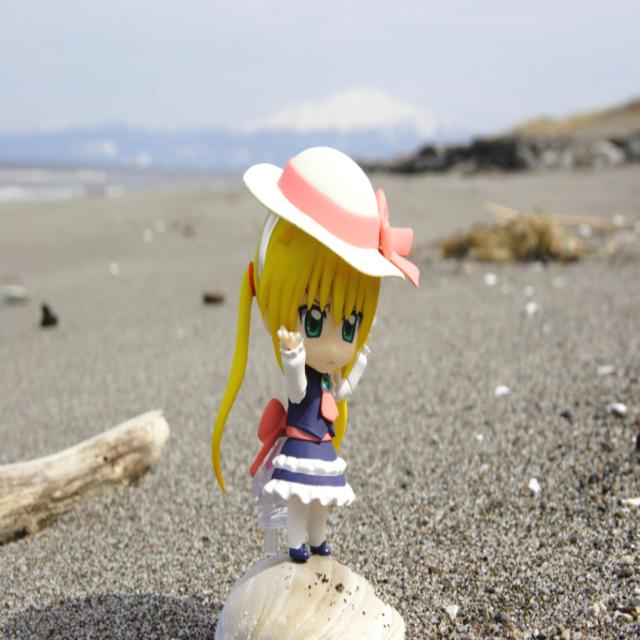Hat: (240, 140, 419, 286)
